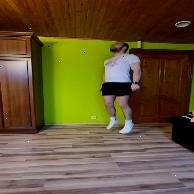high_jumps: (100, 37, 148, 136)
